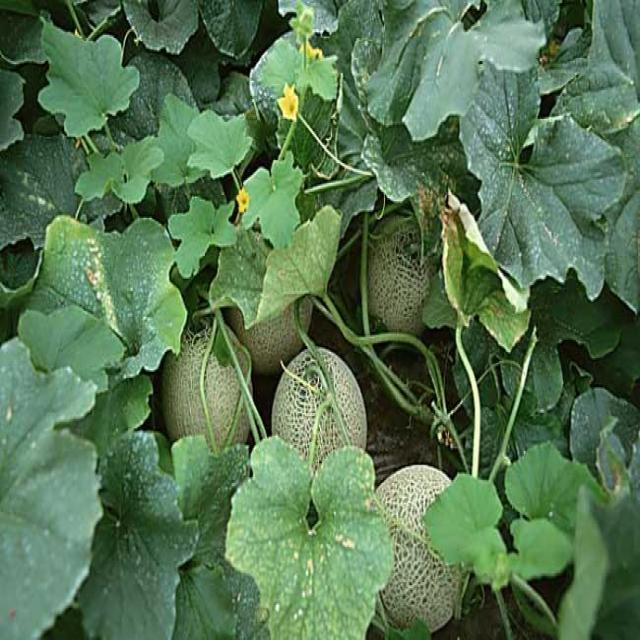Hami Melon: (365, 463, 472, 635), (270, 345, 366, 470), (163, 330, 251, 460)
